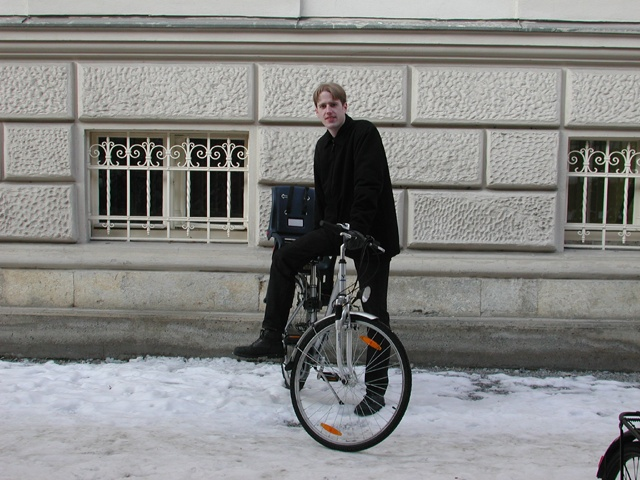person: (267, 80, 399, 417)
